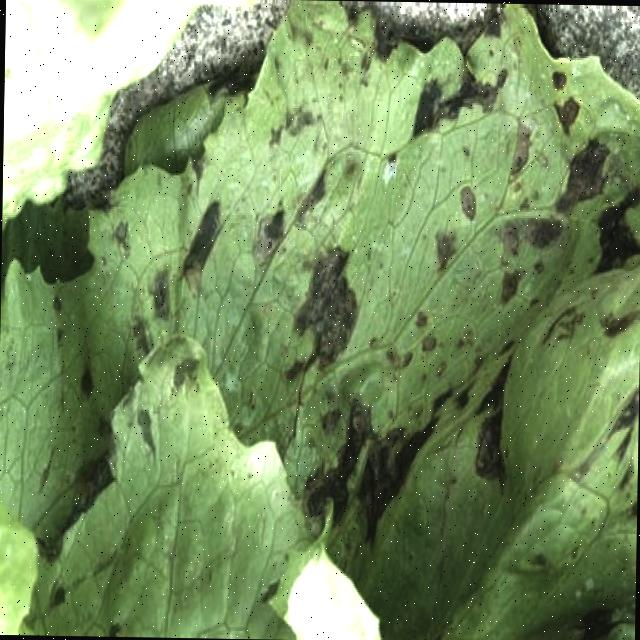Bacterial: (260, 155, 529, 560)
